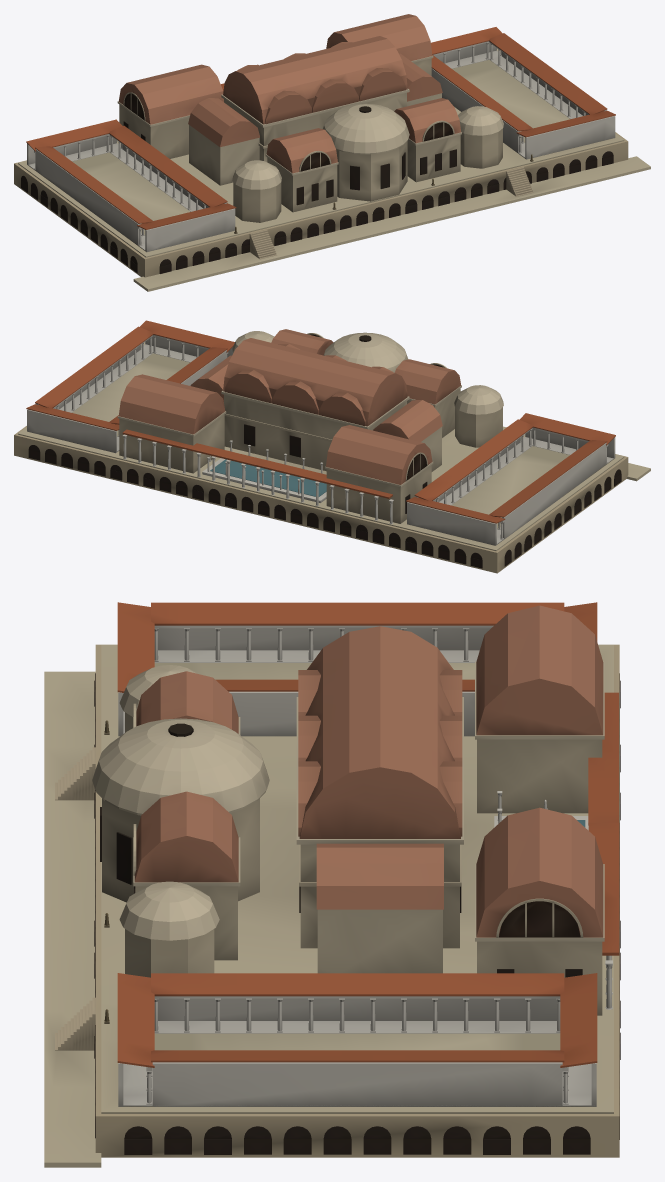
The model's file is antonine-baths.glb.
3 views of the same model, one above another, from view 1: azimuth 30°, elevation 25°; view 2: azimuth 150°, elevation 25°; view 3: azimuth 270°, elevation 25° (orthographic). The views are drawn at different scales.
Visible parts, largest first — view 1: p1_halls, p2_vaults, p0_basement; view 2: p1_halls, p2_vaults, p0_basement; view 3: p1_halls, p2_vaults, p0_basement.
Part boxes in pixels (x1,y1,x2,y2): p1_halls: [26, 27, 615, 259]; p2_vaults: [117, 14, 533, 233]; p0_basement: [14, 48, 650, 291]; p1_halls: [26, 320, 615, 545]; p2_vaults: [117, 329, 503, 498]; p0_basement: [14, 342, 650, 573]; p1_halls: [55, 602, 612, 1106]; p2_vaults: [92, 605, 619, 1023]; p0_basement: [44, 644, 620, 1167].
Size of the model in its own units: 204 by 43.69 by 101.
